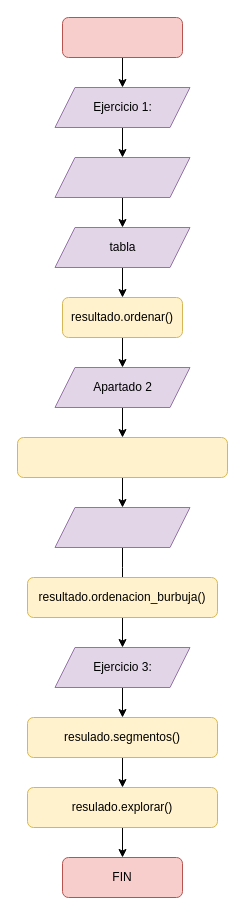
Some shapes in this 245 by 915 pixel diagram are drawn without their labels. Each missing label, with the centre of its shape:
Apartado 1: [122,177]
Ejercicio 2:: [122,527]
INICIO: [122,37]
resultado_2.ordenar_lista_vacia(): [122,457]
